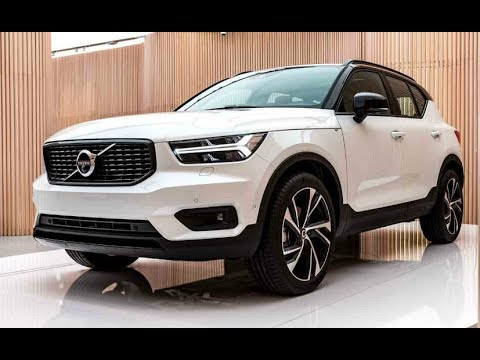pickup: (29, 59, 465, 298)
